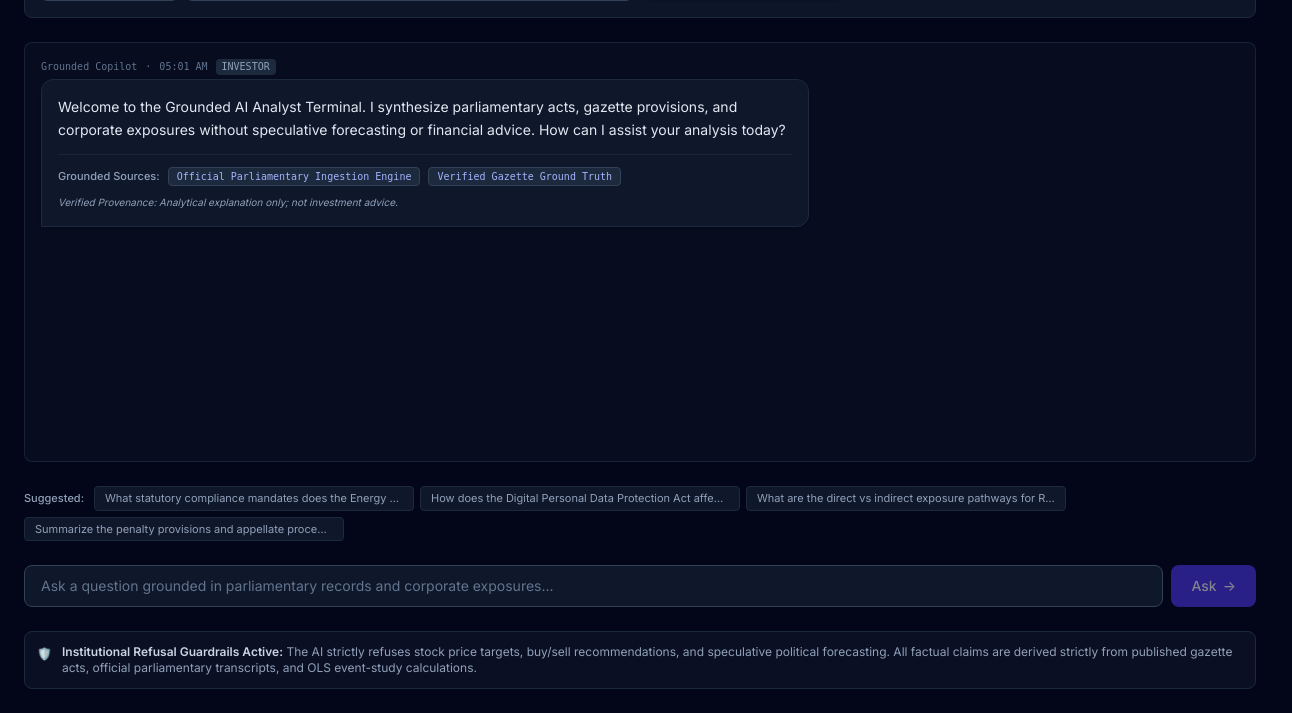
Scenario: AI Analyst Page › submits question and renders grounded response with provenance citations
This screenshot has width=1292, height=713.
(page scrolled)
Replace the text in the field with placeholder "Ask a question grounded in parliamentary records" with "Explain carbon credit trading provisions." at [594, 586], box [24,565,1163,607]
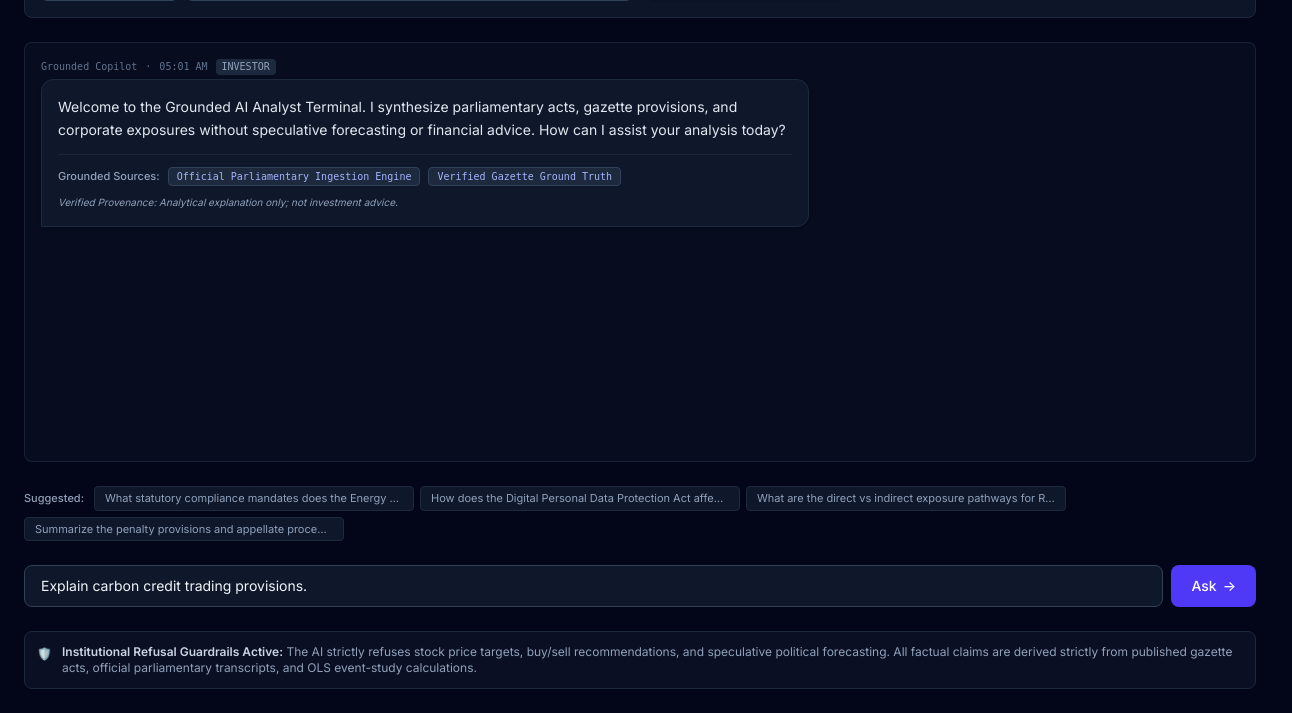
Click the button "Ask →" at [1214, 586], box [1171,565,1256,607]
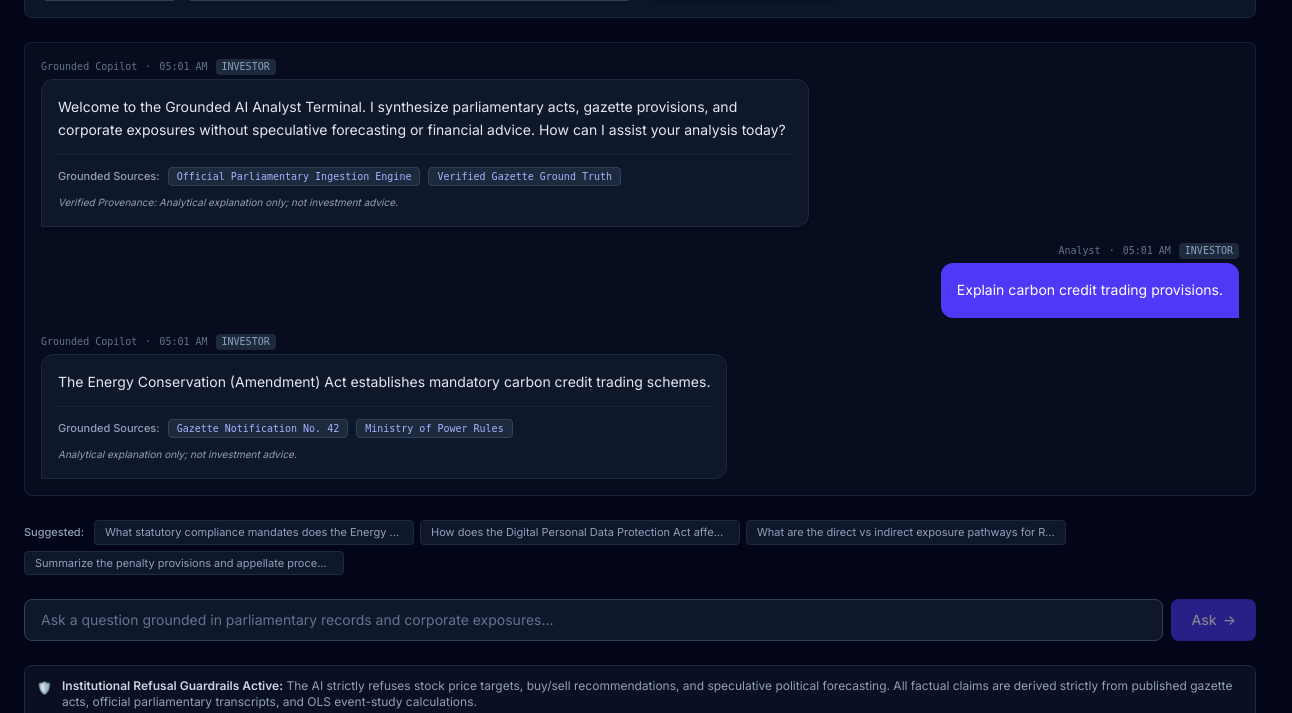
Now the text "The Energy Conservation (Amendment) Act establishes mandatory carbon credit trading schemes" is shown, box [58,373,710,390]
Now the button "Gazette Notification No. 42" is shown, box [168,419,348,438]
